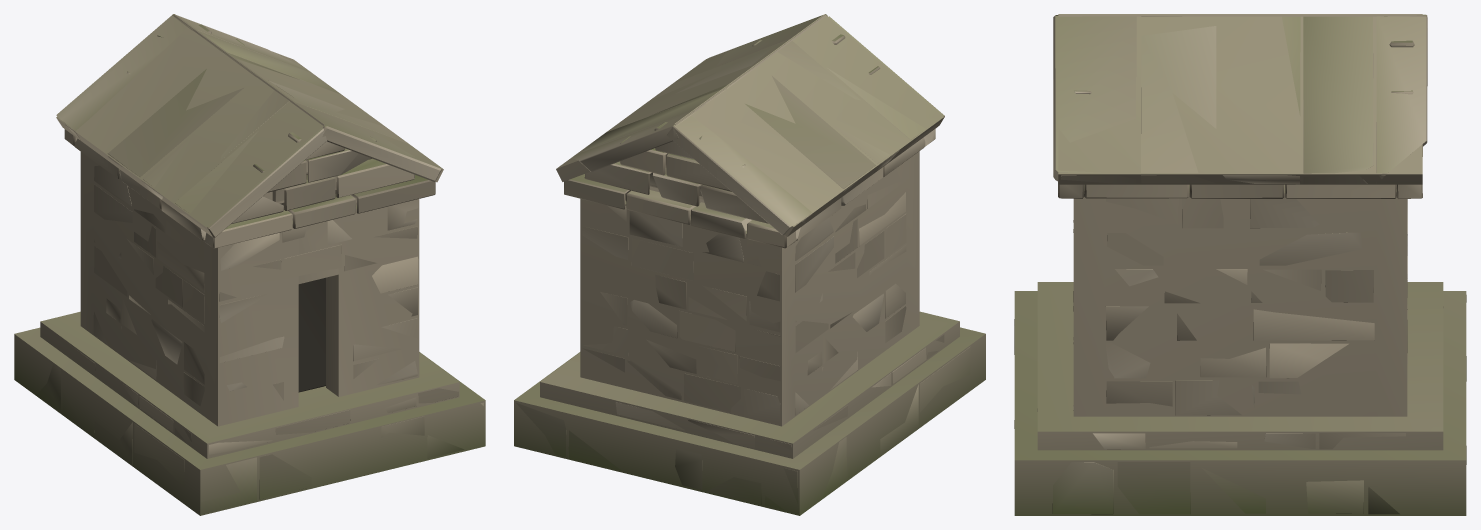
File: tombs_house.glb
The picture shows the model from 3 angles, left to right: view 1: azimuth 30°, elevation 25°; view 2: azimuth 150°, elevation 25°; view 3: azimuth 270°, elevation 25°; orthographic projection. The views are drawn at different scales.
Parts seen in each view (by area): view 1: tombs_house_far, tombs_house; view 2: tombs_house_far, tombs_house; view 3: tombs_house_far, tombs_house.
Boxes of the visible parts, x1,y1,x2,y2 form: tombs_house_far: (14, 14, 485, 515); tombs_house: (37, 14, 483, 514); tombs_house_far: (514, 14, 985, 515); tombs_house: (516, 14, 970, 509); tombs_house_far: (1014, 14, 1466, 515); tombs_house: (1014, 14, 1466, 514).
Bounding box in the file's own units: 15.62 × 17.93 × 17.62.
